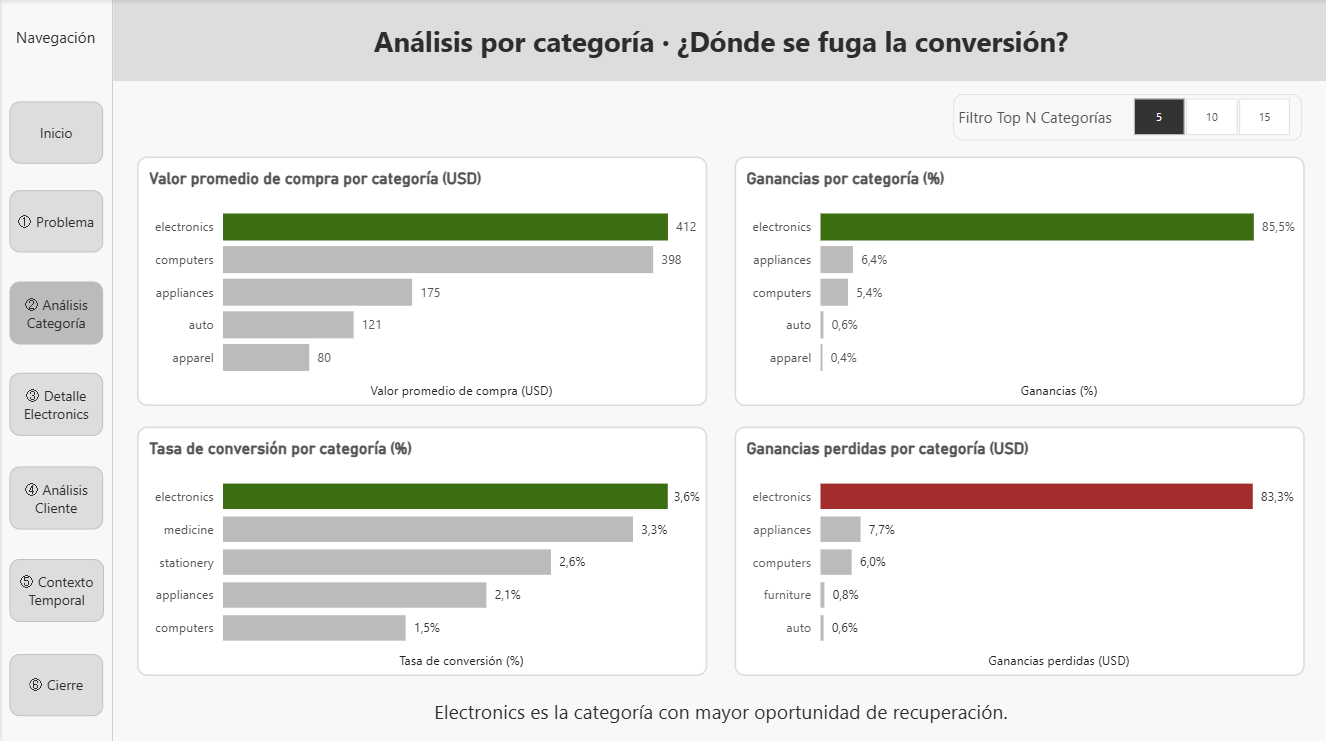

What the dashboard file says about the page in this screenshot:
{"tool":"powerbi","page":{"name":"Categoría","canvas":[1280,720],"ordinal":2},"visuals":[{"type":"clusteredBarChart","title":"Tasa de conversión por categoría (%)","fields":{"Category":["dim_categoria.macro_category"],"Y":["agg_funnel_categoria.01_Tasa_conv_cat"]},"box":[130.6,412.6,550.5,240.5],"z":0},{"type":"shape","box":[107.4,0,1173.1,79.3],"z":1000},{"type":"clusteredBarChart","title":"Ganancias perdidas por  categoría (USD)","fields":{"Category":["dim_categoria.macro_category"],"Y":["Divide(agg_revenue_en_juego.01 Revenue, ScopedEval(agg_revenue_en_juego.01 Revenue, []))"]},"box":[706.8,412.6,550.5,240.5],"z":2000},{"type":"clusteredBarChart","title":"Ganancias por categoría (%)","fields":{"Category":["dim_categoria.macro_category"],"Y":["agg_funnel_categoria.03_Revenue_filtrado"]},"box":[706.8,152.6,550.5,240.5],"z":3000},{"type":"shape","box":[107.4,655.5,1173.1,64.7],"z":4000},{"type":"textbox","box":[917.9,98.9,166.5,30.2],"z":5000},{"type":"shape","box":[917.9,91.7,336.6,44.6],"z":6000},{"type":"slicer","title":"Filtro Top N Categorías","fields":{"Values":["Top_N_Categorias.Top_N_Categorias"]},"box":[1069.9,92.9,193,41],"z":7000},{"type":"clusteredBarChart","title":"Valor promedio de compra por categoría (USD)","fields":{"Category":["dim_categoria.macro_category"],"Y":["agg_funnel_categoria.04_Ticket_Filtrado_Categoria"]},"box":[130.6,152.6,550.5,240.5],"z":8000},{"type":"shape","box":[0,0,213.5,720.2],"z":9000},{"type":"textbox","box":[3.7,22,96.4,36.6],"z":10000},{"type":"actionButton","box":[7.3,98.9,90.3,59.8],"z":11000},{"type":"actionButton","box":[7.3,272.2,90.3,61],"z":12000},{"type":"actionButton","box":[7.3,540.8,91.6,61],"z":13000},{"type":"actionButton","box":[7.3,451.7,90.3,61],"z":14000},{"type":"actionButton","box":[7.3,632.3,90.3,59.8],"z":15000},{"type":"actionButton","box":[7.3,361.3,90.3,61],"z":16000},{"type":"actionButton","box":[7.3,184.3,90.3,59.8],"z":17000}]}

Visuals, with their boxes on the page's 1280x720 design canvas (x1, y1, x2, y2). These are canvas units, not pixel positions in the 1326x741 screenshot, which may show the page scaled, cropped or inside an application window:
"Tasa de conversión por categoría (%)" clusteredBarChart: 131:413:681:653
shape: 107:0:1280:79
"Ganancias perdidas por  categoría (USD)" clusteredBarChart: 707:413:1257:653
"Ganancias por categoría (%)" clusteredBarChart: 707:153:1257:393
shape: 107:656:1280:720
textbox: 918:99:1084:129
shape: 918:92:1254:136
"Filtro Top N Categorías" slicer: 1070:93:1263:134
"Valor promedio de compra por categoría (USD)" clusteredBarChart: 131:153:681:393
shape: 0:0:214:720
textbox: 4:22:100:59
actionButton: 7:99:98:159
actionButton: 7:272:98:333
actionButton: 7:541:99:602
actionButton: 7:452:98:513
actionButton: 7:632:98:692
actionButton: 7:361:98:422
actionButton: 7:184:98:244
